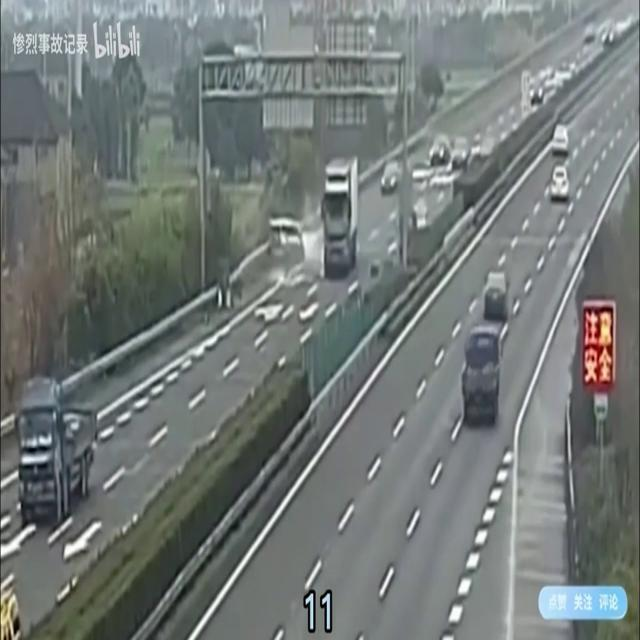accident: (268, 218, 306, 266)
non-accident: (431, 130, 492, 170), (582, 11, 636, 47), (527, 62, 569, 106)
